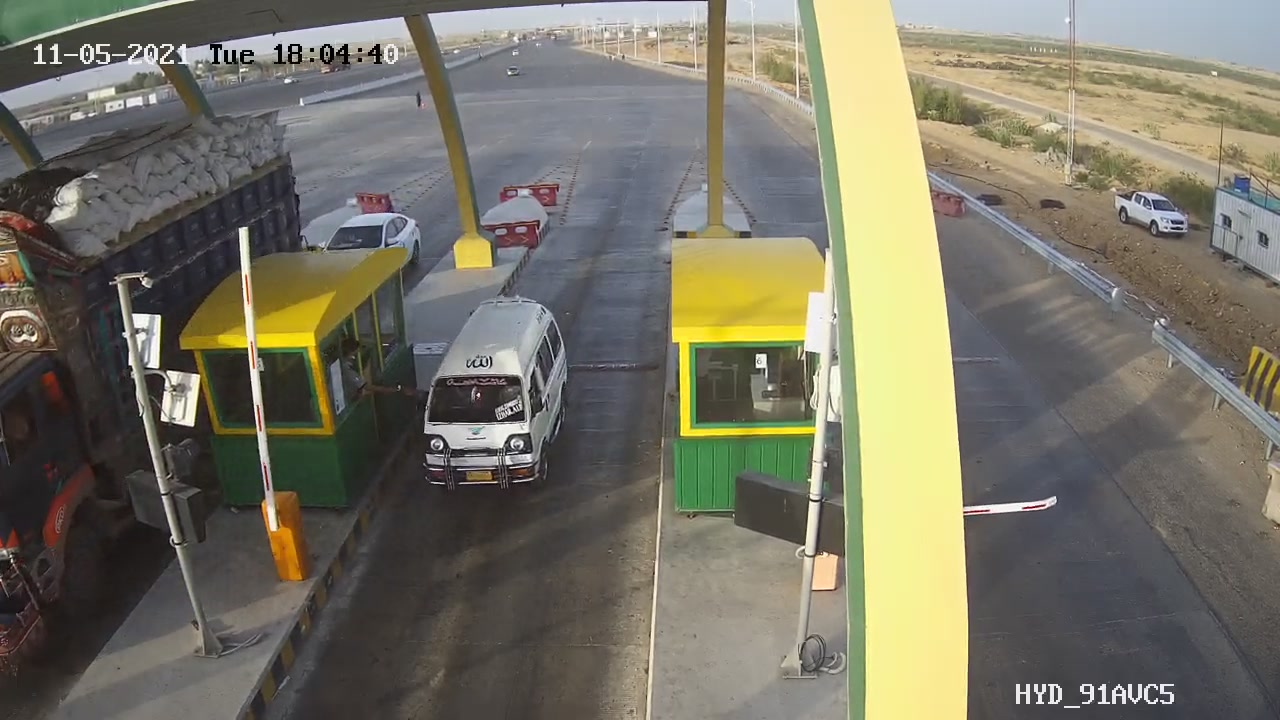F1: (408, 285, 586, 505)
